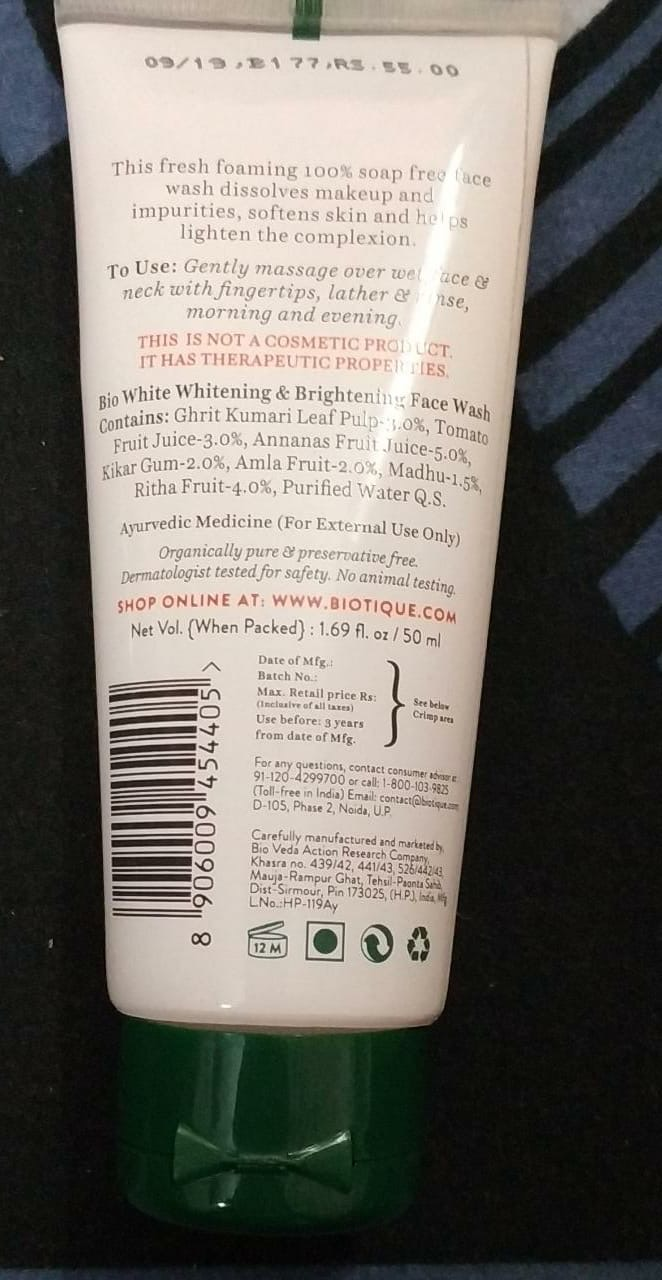barcode: (104, 671, 218, 952)
